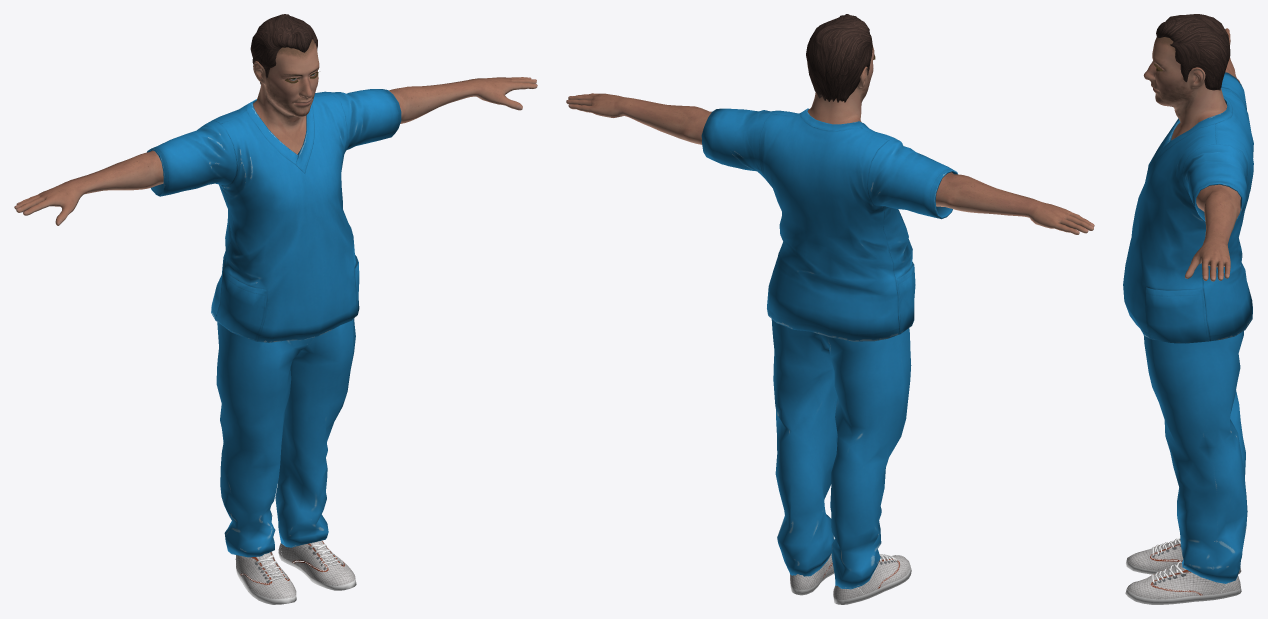
The model's file is medico_inicial.obj.
3 renders of one model, left to right at view 1: azimuth 30°, elevation 25°; view 2: azimuth 150°, elevation 25°; view 3: azimuth 270°, elevation 25°, orthographic.
Visible parts, largest first — view 1: Tops, Bottoms, Body, Shoes, Hair; view 2: Tops, Bottoms, Body, Hair, Shoes; view 3: Tops, Bottoms, Body, Shoes, Hair.
Boxes of the visible parts, left/top/right/bottom form: Tops: left=147, top=89, right=401, bottom=342; Bottoms: left=216, top=318, right=355, bottom=557; Body: left=14, top=39, right=537, bottom=558; Shoes: left=235, top=540, right=356, bottom=604; Hair: left=250, top=14, right=317, bottom=84; Tops: left=701, top=108, right=957, bottom=341; Bottoms: left=771, top=319, right=911, bottom=589; Body: left=566, top=45, right=1094, bottom=234; Hair: left=806, top=14, right=872, bottom=102; Shoes: left=790, top=553, right=911, bottom=604; Tops: left=1123, top=72, right=1253, bottom=343; Bottoms: left=1144, top=331, right=1247, bottom=583; Body: left=1143, top=28, right=1240, bottom=281; Shoes: left=1125, top=538, right=1241, bottom=604; Hair: left=1156, top=14, right=1230, bottom=90.
Bounding box in the file's own units: 171 × 175 × 36.65.
5 materials, 5 textured.
